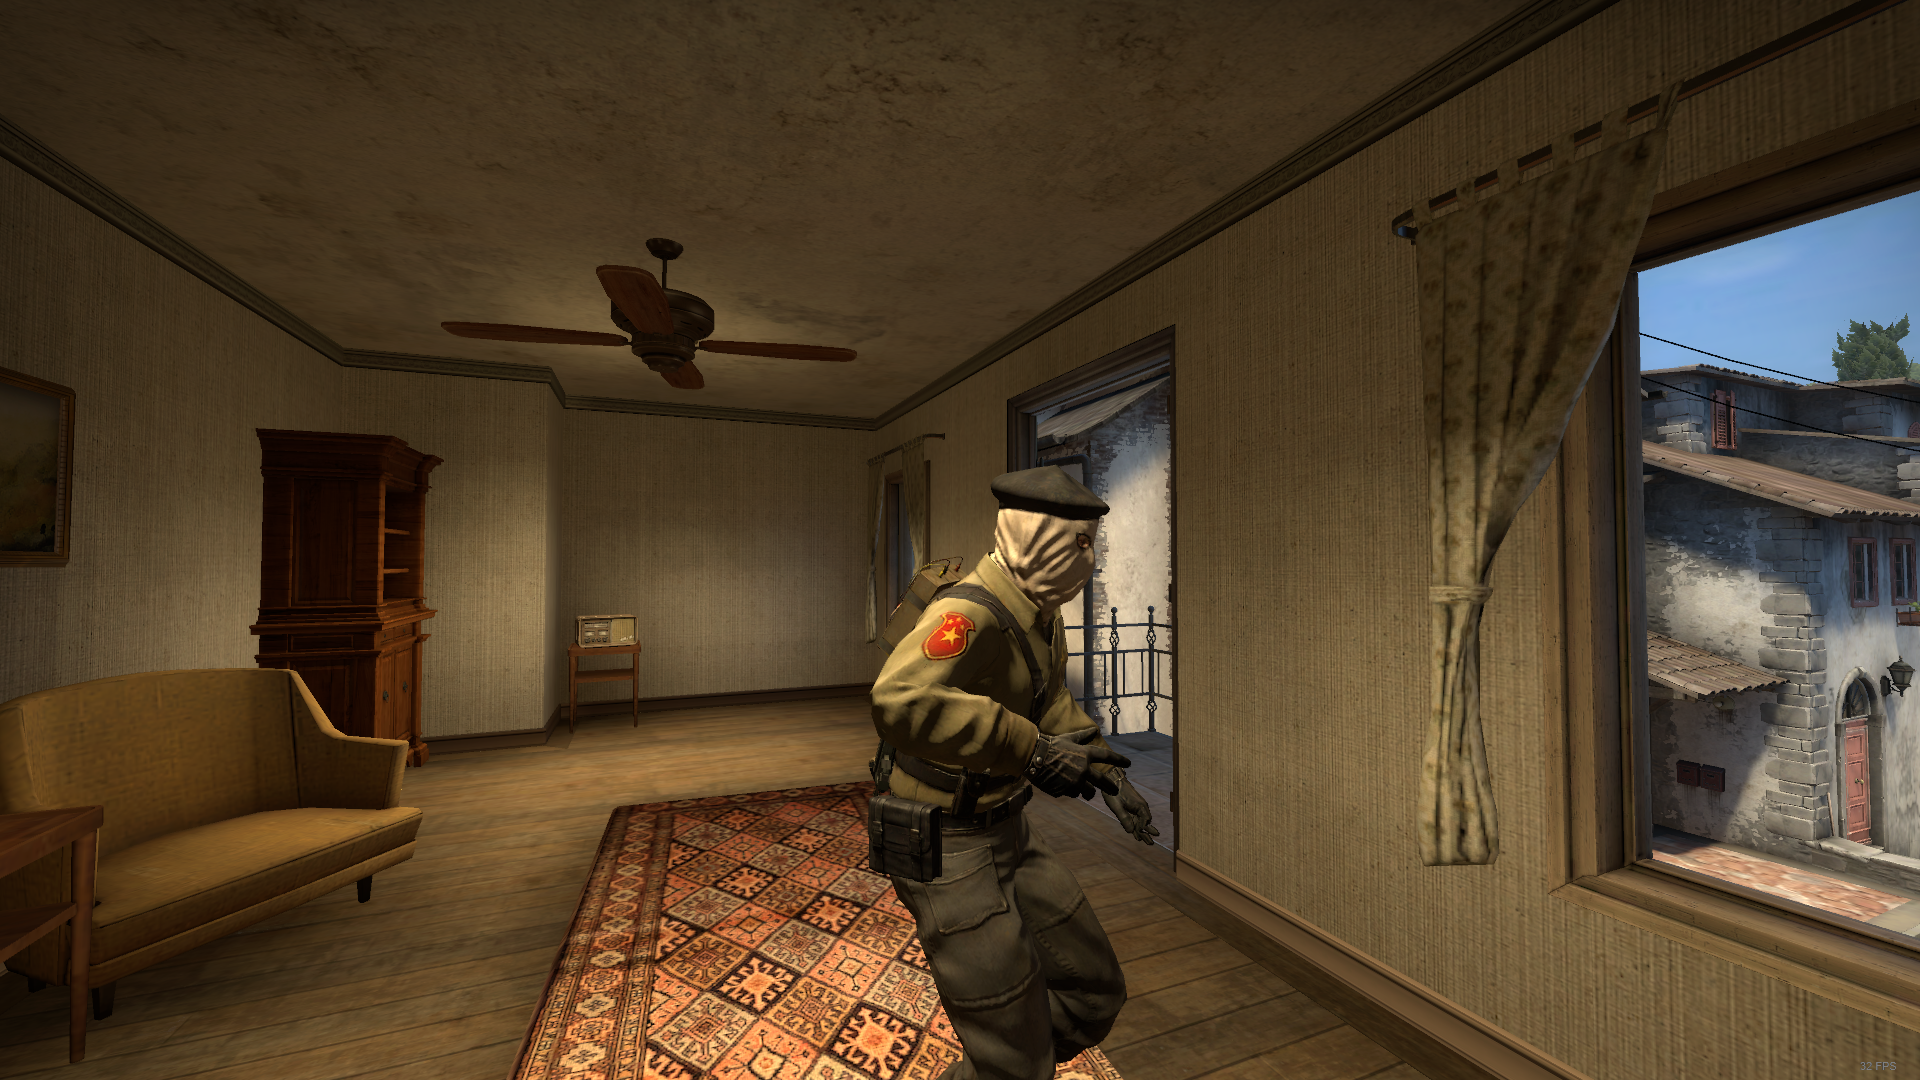t: (864, 464, 1159, 1080)
